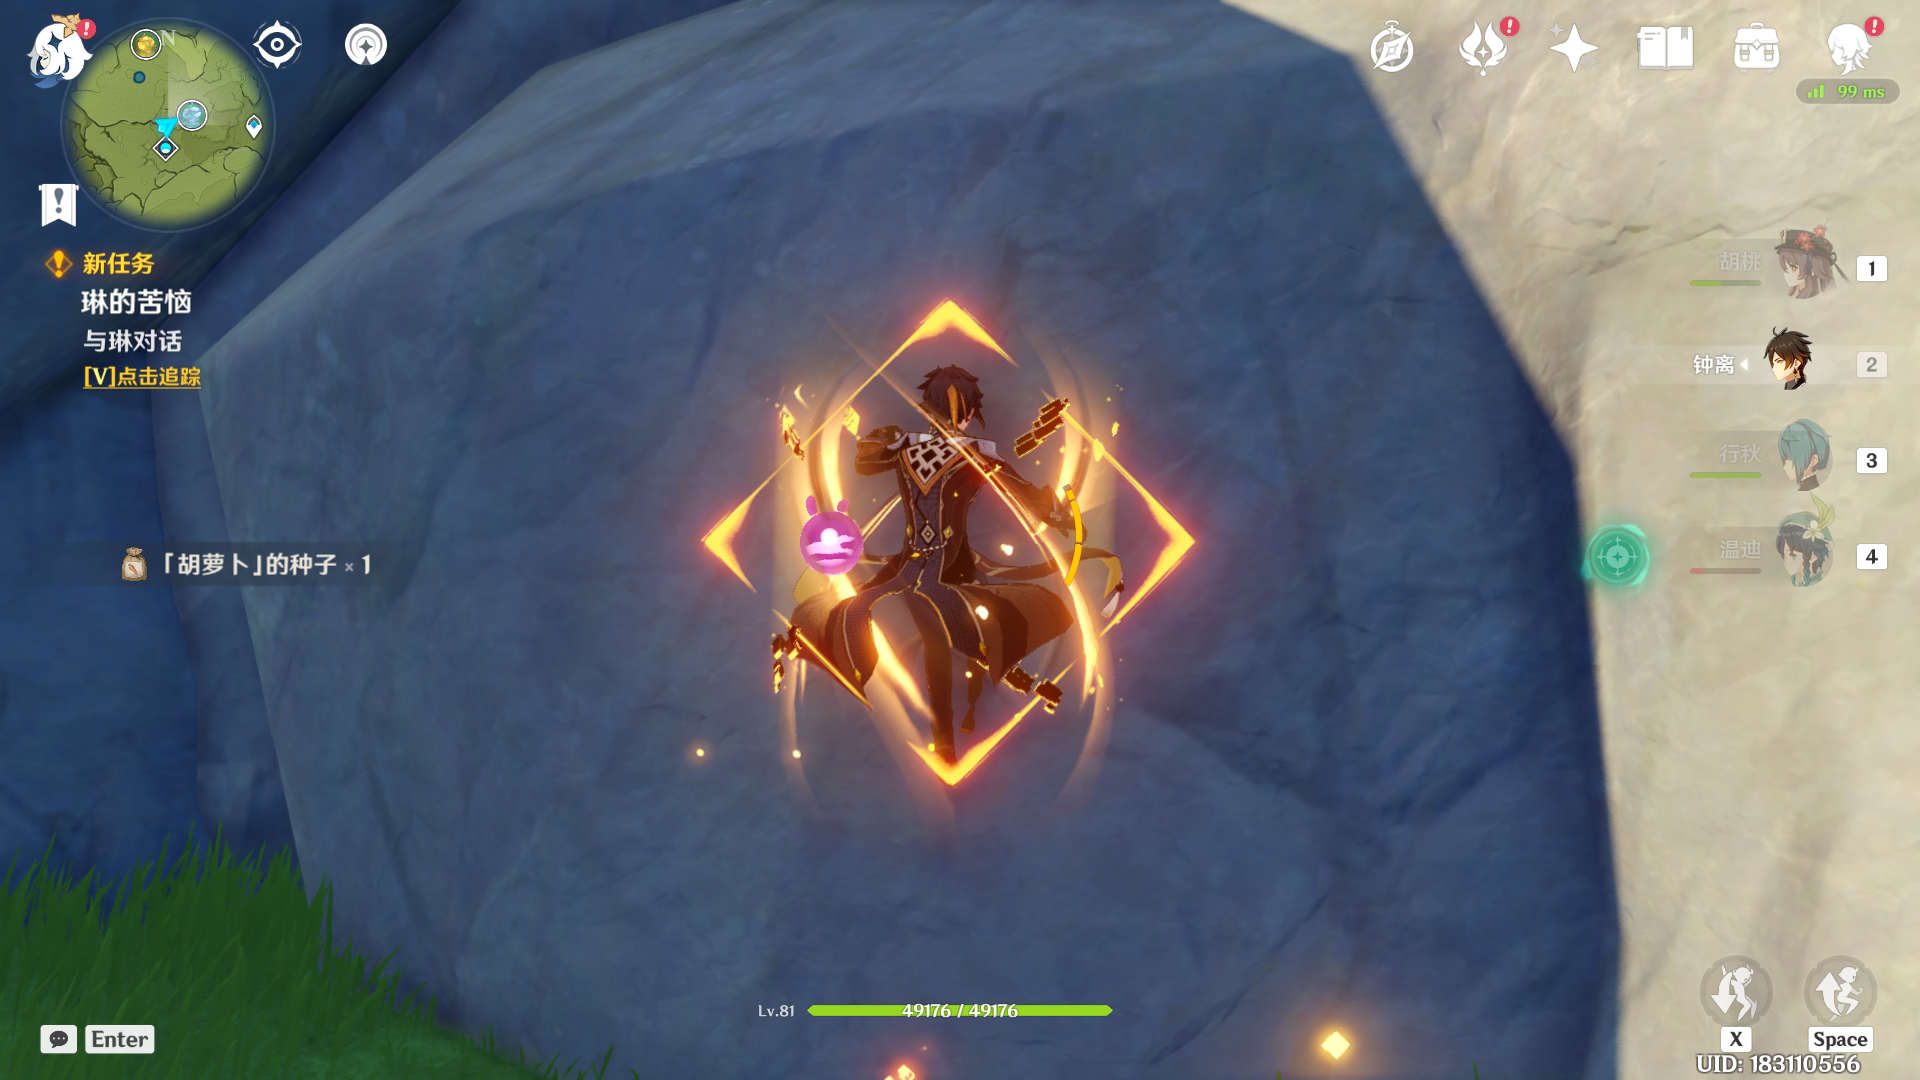character: (791, 348, 1127, 777)
